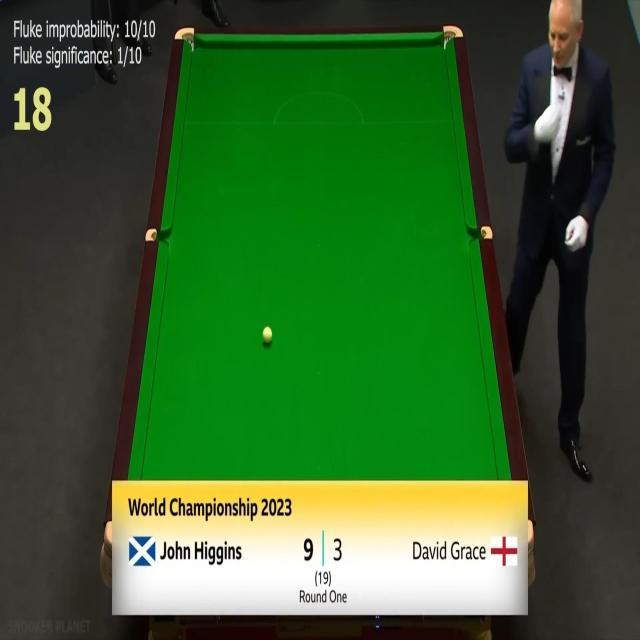Ball: (263, 326, 272, 344)
